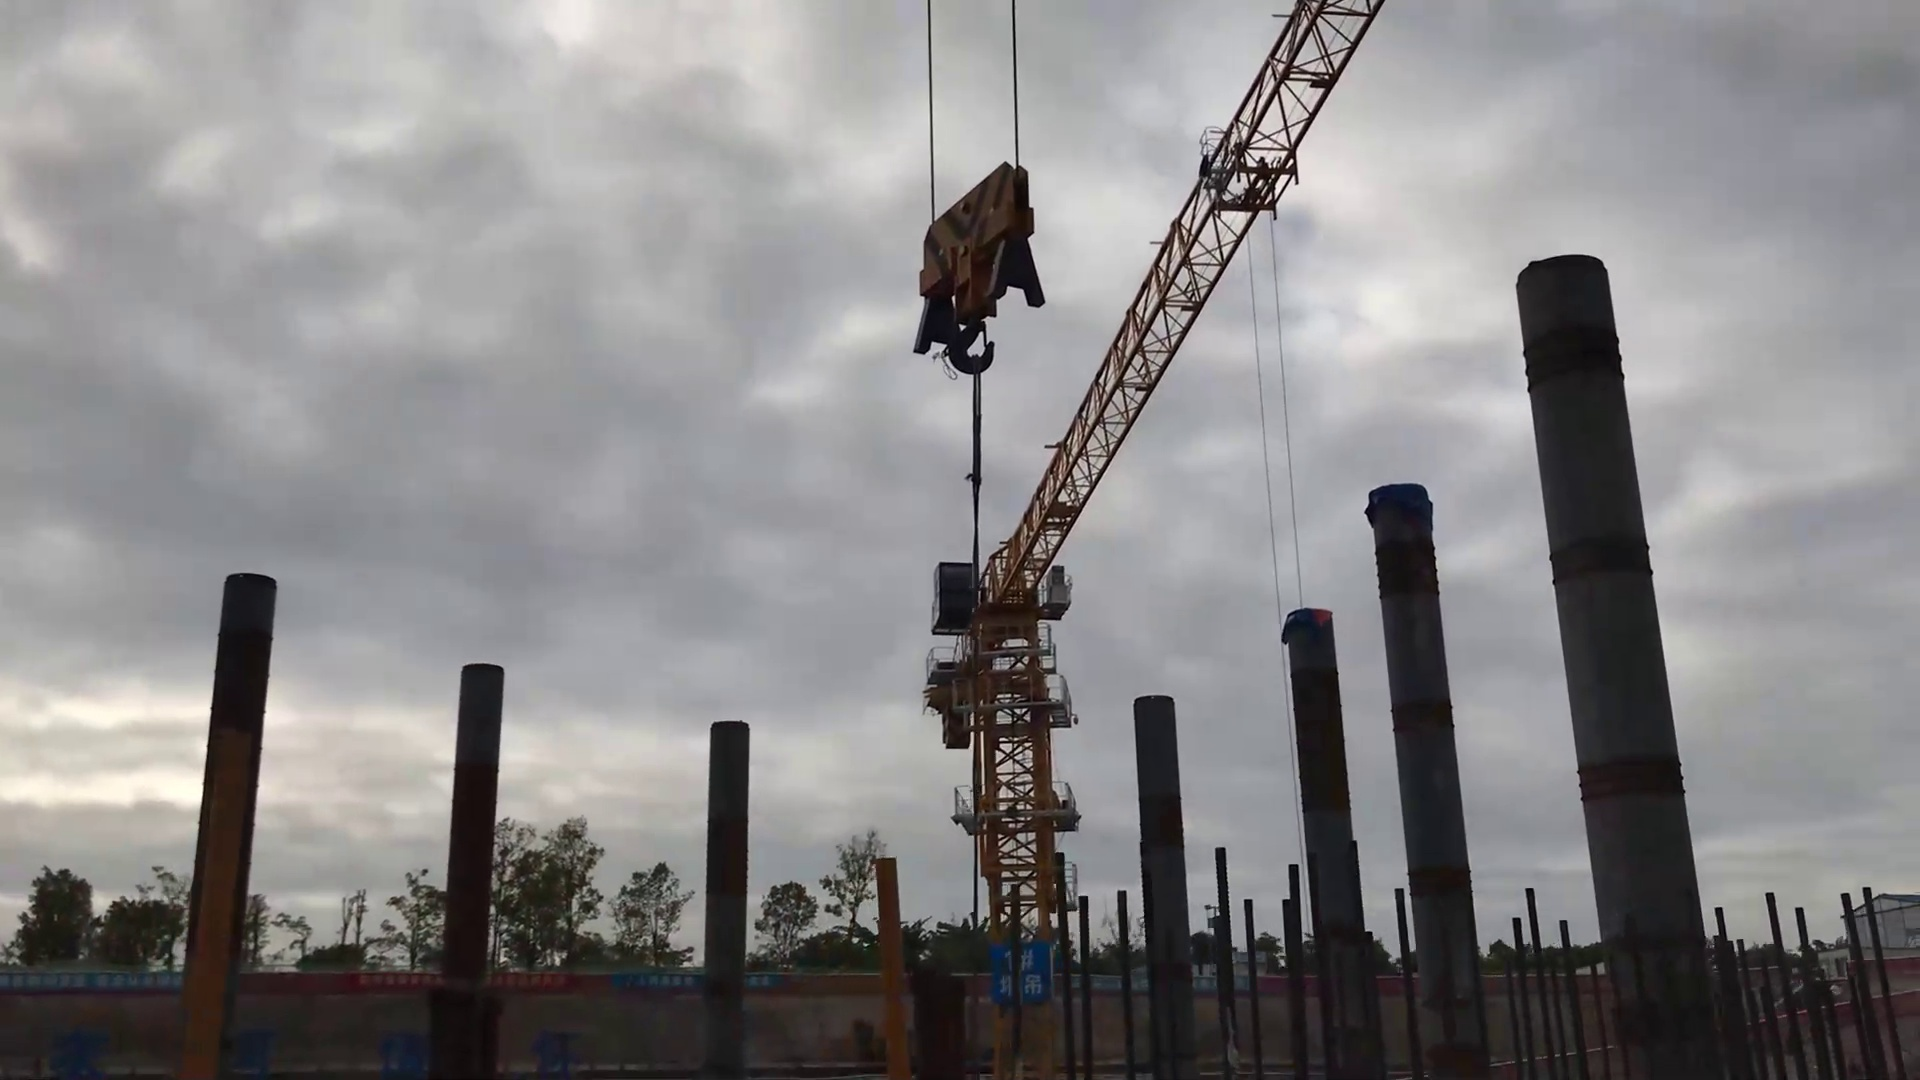hook: (906, 156, 1056, 385)
